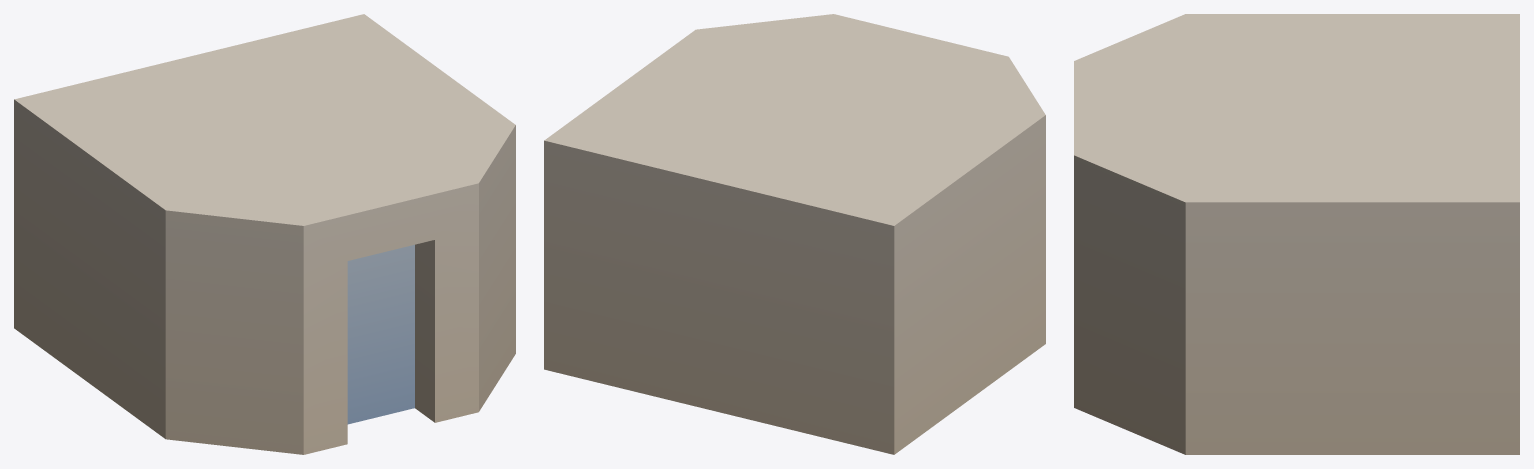
Rendered from building-edges-door.glb.
3 views of the same model, side by side, from view 1: azimuth 30°, elevation 25°; view 2: azimuth 150°, elevation 25°; view 3: azimuth 270°, elevation 25° (orthographic). The views are drawn at different scales.
Visible parts, largest first — view 1: building-edges-door; view 2: building-edges-door; view 3: building-edges-door.
Boxes of the visible parts, bbox=[...] form: building-edges-door: bbox=[14, 14, 515, 454]; building-edges-door: bbox=[544, 14, 1045, 454]; building-edges-door: bbox=[1074, 14, 1519, 454].
Bounding box in the file's own units: 1 × 0.625 × 1.
